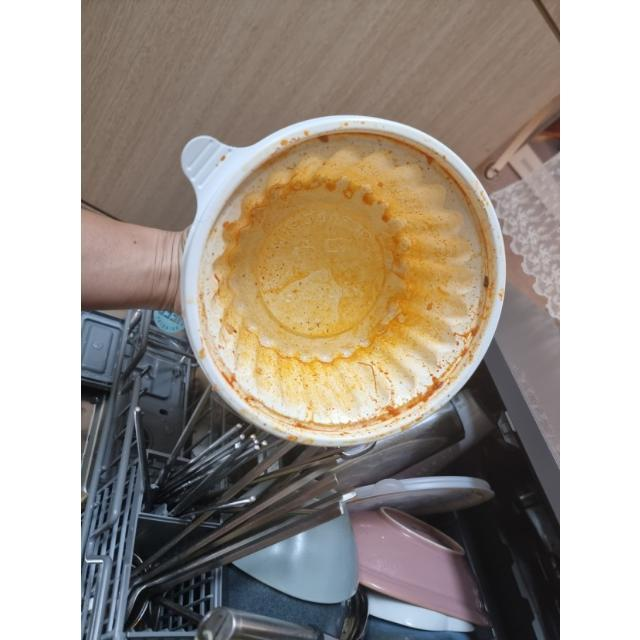Recipiente plastico: (177, 112, 515, 448)
